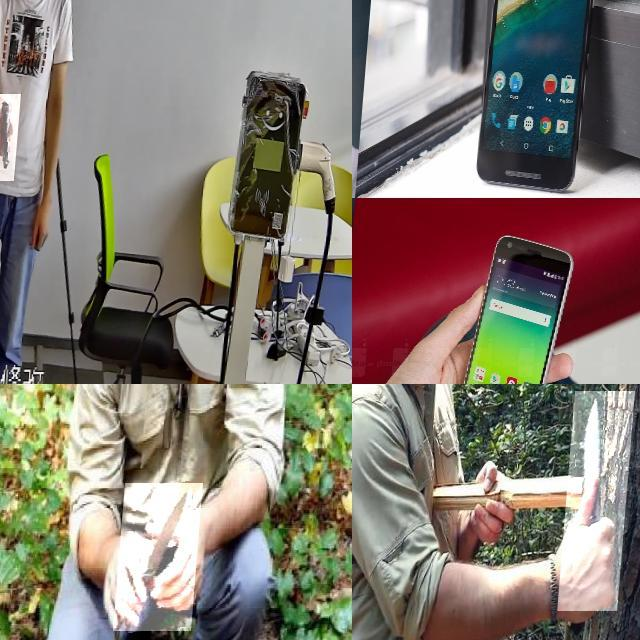-: (565, 391, 640, 611), (122, 483, 210, 631)
gun-knife-thesis - v11 Yolov5 augmented: (0, 94, 26, 181)
